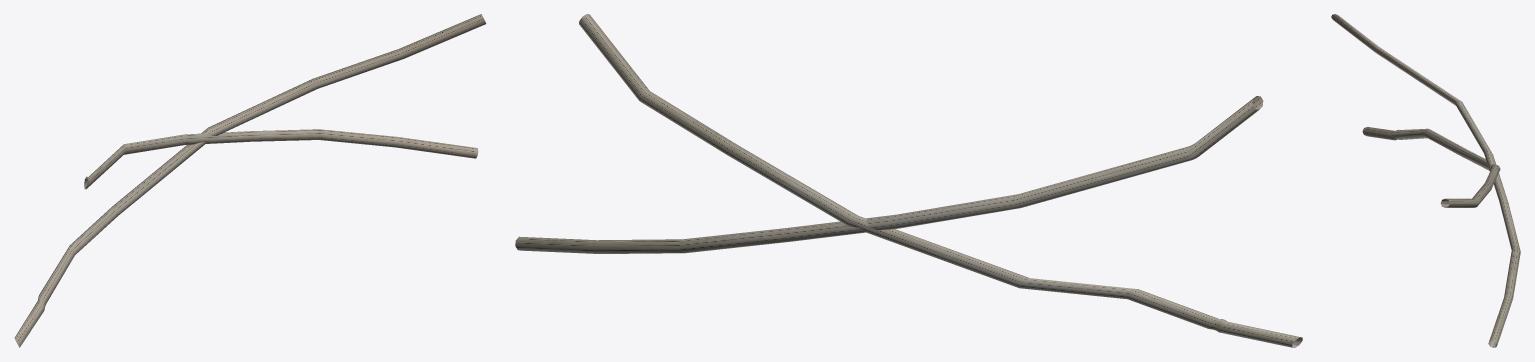
File: sphere.004_lev3.glb
3 views of the same model, side by side, from view 1: azimuth 30°, elevation 25°; view 2: azimuth 150°, elevation 25°; view 3: azimuth 270°, elevation 25° (orthographic). The views are drawn at different scales.
Parts seen in each view (by area): view 1: sphere.004_lev3; view 2: sphere.004_lev3; view 3: sphere.004_lev3.
Boxes of the visible parts, left/top/right/bottom form: sphere.004_lev3: left=14, top=14, right=486, bottom=347; sphere.004_lev3: left=515, top=14, right=1302, bottom=347; sphere.004_lev3: left=1331, top=14, right=1520, bottom=347.
Size of the model in its own units: 1.33 by 0.4092 by 0.4921.
1 material, 1 textured.
